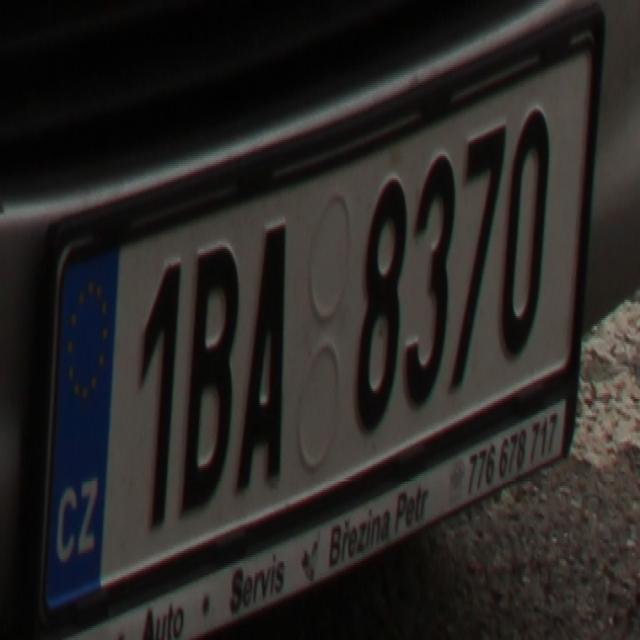0: (502, 110, 548, 354)
1: (138, 259, 176, 531)
3: (406, 158, 452, 415)
7: (452, 123, 504, 384)
8: (352, 175, 402, 428)
A: (238, 214, 286, 488)
B: (179, 232, 237, 520)
